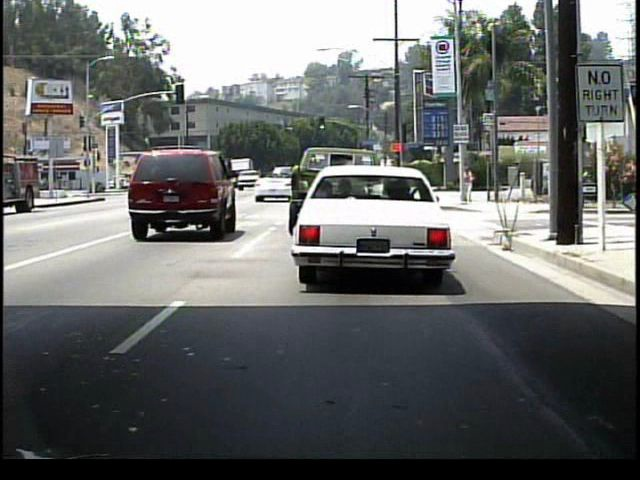person: (464, 167, 476, 203)
